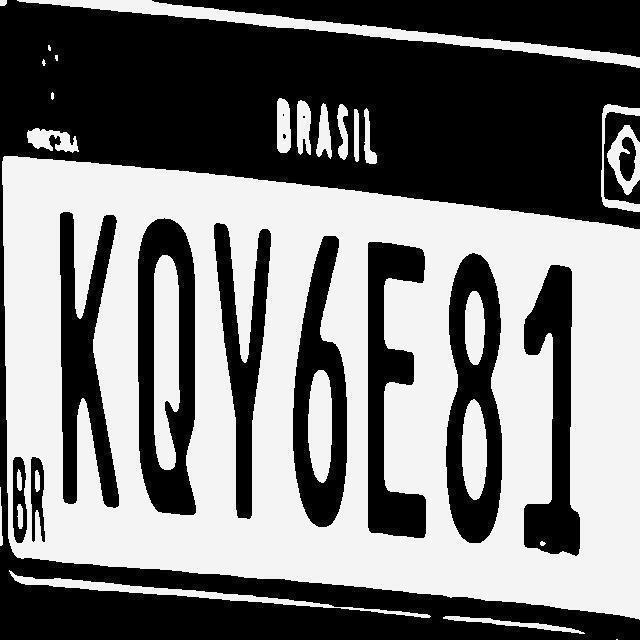1: (518, 259, 586, 562)
6: (285, 228, 354, 538)
8: (439, 250, 508, 550)
e: (361, 235, 433, 542)
k: (53, 204, 123, 515)
q: (131, 213, 202, 524)
y: (207, 212, 278, 526)
